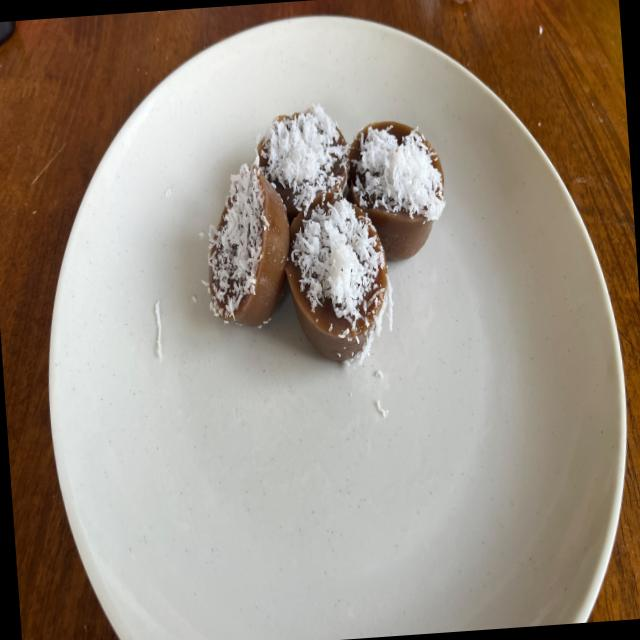Kuih lompang: (285, 198, 392, 362), (208, 155, 289, 325), (349, 121, 445, 260), (258, 104, 349, 222)
